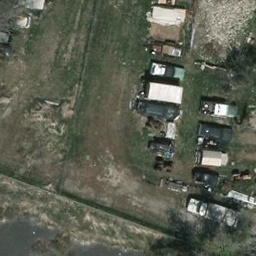car: (187, 197, 241, 229), (198, 122, 235, 143), (150, 62, 188, 81)
